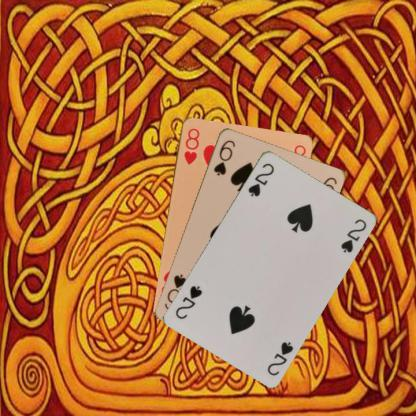2s: (245, 160, 276, 198), (264, 338, 294, 376)
6s: (211, 137, 236, 177)
8h: (181, 125, 200, 166)
